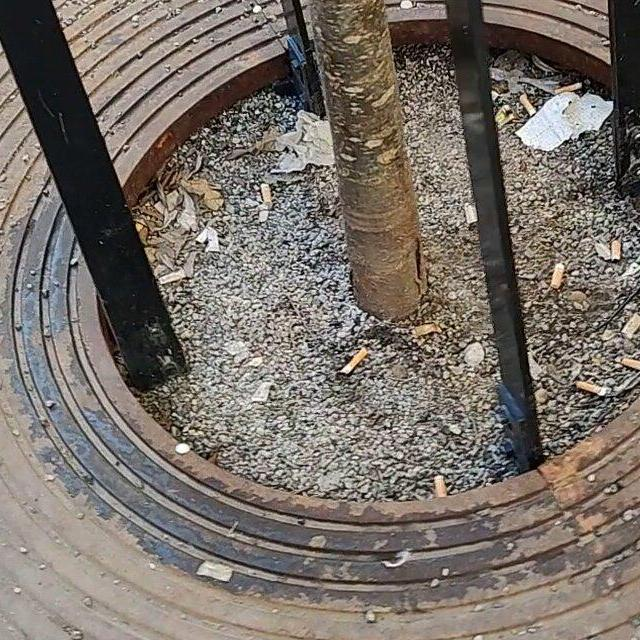Cigarette Butt: (569, 379, 609, 401), (338, 351, 364, 381), (549, 81, 582, 98), (548, 262, 566, 291), (432, 474, 450, 500), (518, 91, 538, 114), (260, 181, 276, 208), (615, 356, 640, 371), (627, 316, 639, 340), (612, 237, 622, 265)
